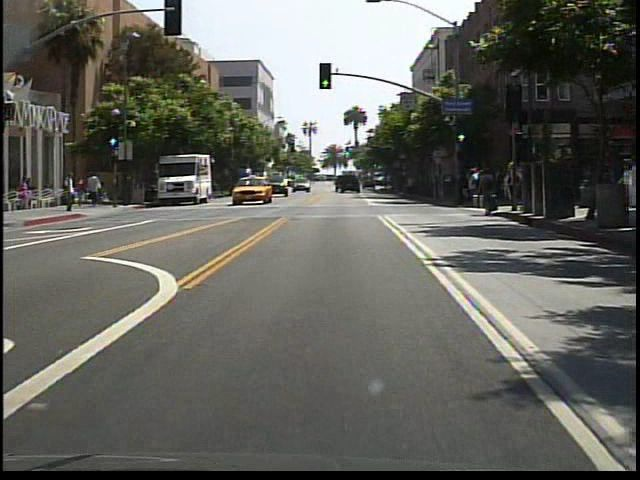person: (474, 164, 497, 219), (63, 169, 79, 214), (18, 175, 35, 213), (88, 168, 104, 206), (76, 174, 88, 206)
